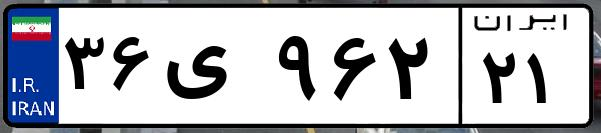1: (525, 38, 570, 115)
2: (385, 28, 445, 110), (475, 38, 525, 113)
3: (57, 26, 110, 100)
6: (330, 28, 385, 110), (110, 28, 158, 98)
9: (270, 28, 330, 110)
ی: (158, 20, 270, 120)
